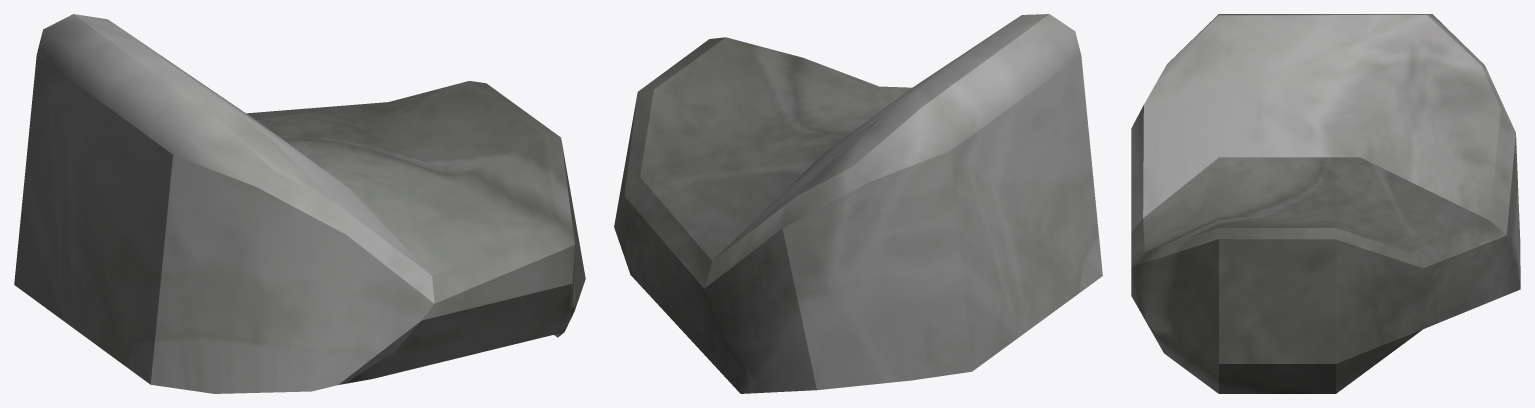
The model's file is 14_R_Pequeña.fbx.
The picture shows the model from 3 angles, left to right: view 1: azimuth 30°, elevation 25°; view 2: azimuth 150°, elevation 25°; view 3: azimuth 270°, elevation 25°; orthographic projection. The views are drawn at different scales.
Parts seen in each view (by area): view 1: 14_R_Pequeña_Low; view 2: 14_R_Pequeña_Low; view 3: 14_R_Pequeña_Low.
Boxes of the visible parts, <box> form: 14_R_Pequeña_Low: <box>14,14,585,393</box>; 14_R_Pequeña_Low: <box>614,14,1102,393</box>; 14_R_Pequeña_Low: <box>1131,14,1520,393</box>.
Size of the model in its own units: 258 by 177 by 255.
